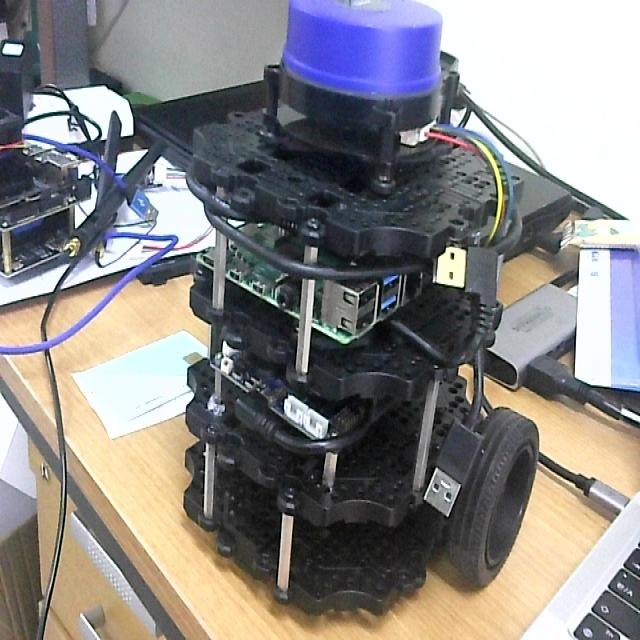turtle: (182, 0, 540, 621)
